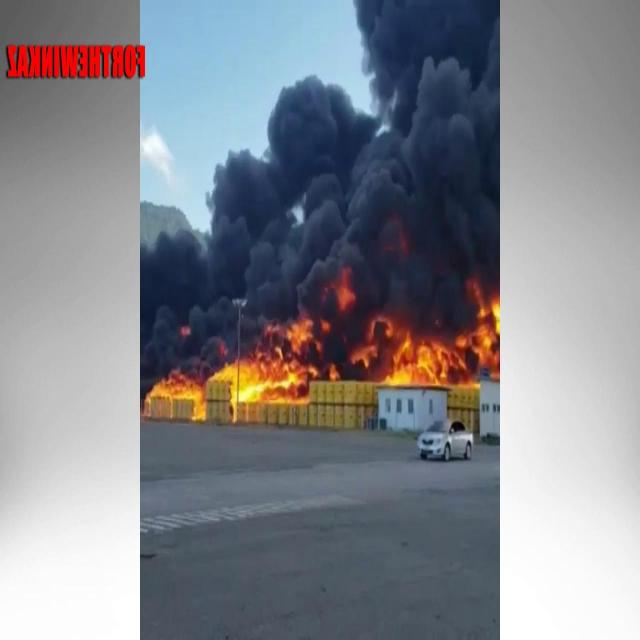fire: (152, 297, 497, 428)
